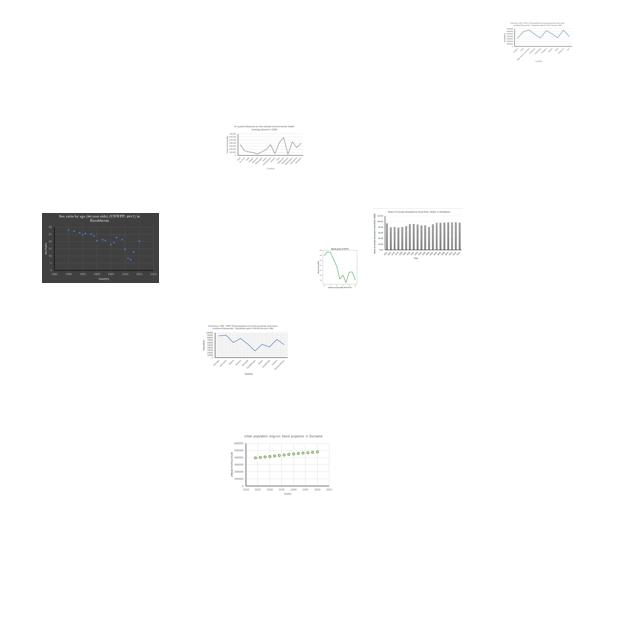Graph: (42, 213, 159, 283), (223, 432, 334, 498), (372, 208, 463, 261), (199, 323, 289, 376), (224, 124, 305, 172), (502, 21, 573, 63), (307, 245, 371, 289)
